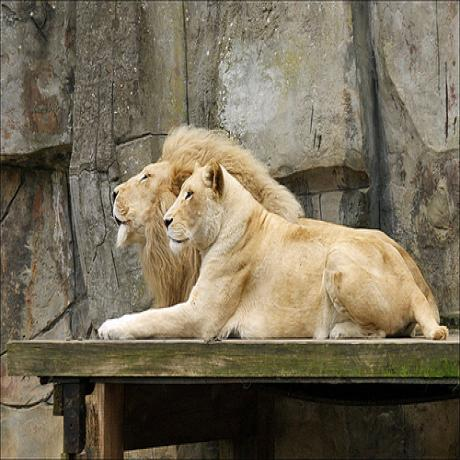Lion: (165, 160, 449, 344), (98, 127, 175, 344)
